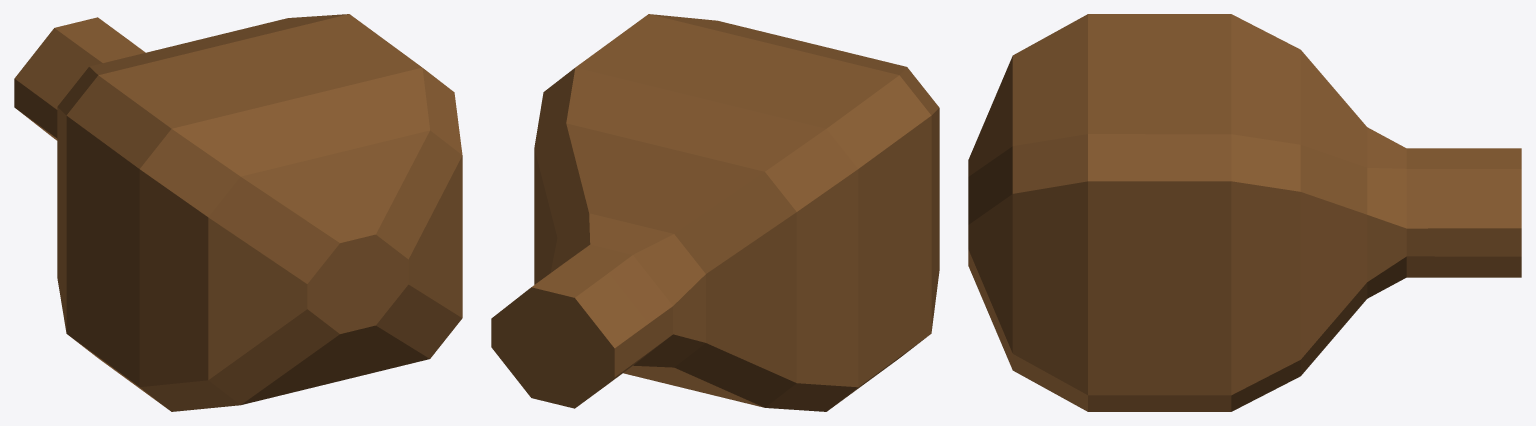
File: ruchkaOtPolkiStola.fbx
3 renders of one model, left to right at view 1: azimuth 30°, elevation 25°; view 2: azimuth 150°, elevation 25°; view 3: azimuth 270°, elevation 25°, orthographic.
Parts seen in each view (by area): view 1: ruchka; view 2: ruchka; view 3: ruchka.
Part boxes in pixels (<box>): ruchka: <box>14,14,462,411</box>; ruchka: <box>491,14,939,411</box>; ruchka: <box>968,14,1521,411</box>.
Size of the model in its own units: 4.53 by 3.89 by 7.02.
